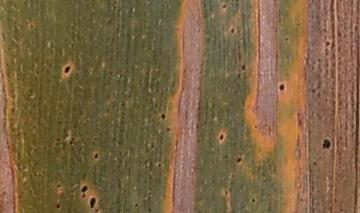tarspot: (58, 58, 76, 77), (214, 129, 230, 145), (318, 136, 333, 152), (75, 183, 94, 193), (220, 186, 233, 200), (234, 61, 249, 72), (225, 170, 240, 181), (276, 81, 289, 93), (156, 110, 168, 122), (232, 154, 244, 165), (307, 82, 318, 94), (88, 196, 98, 209), (218, 1, 228, 14), (249, 193, 258, 207), (65, 136, 77, 146), (52, 200, 64, 210), (131, 200, 143, 210), (227, 23, 237, 35), (321, 38, 333, 48), (54, 181, 64, 191), (89, 151, 100, 160), (78, 190, 89, 199), (163, 124, 172, 132)
